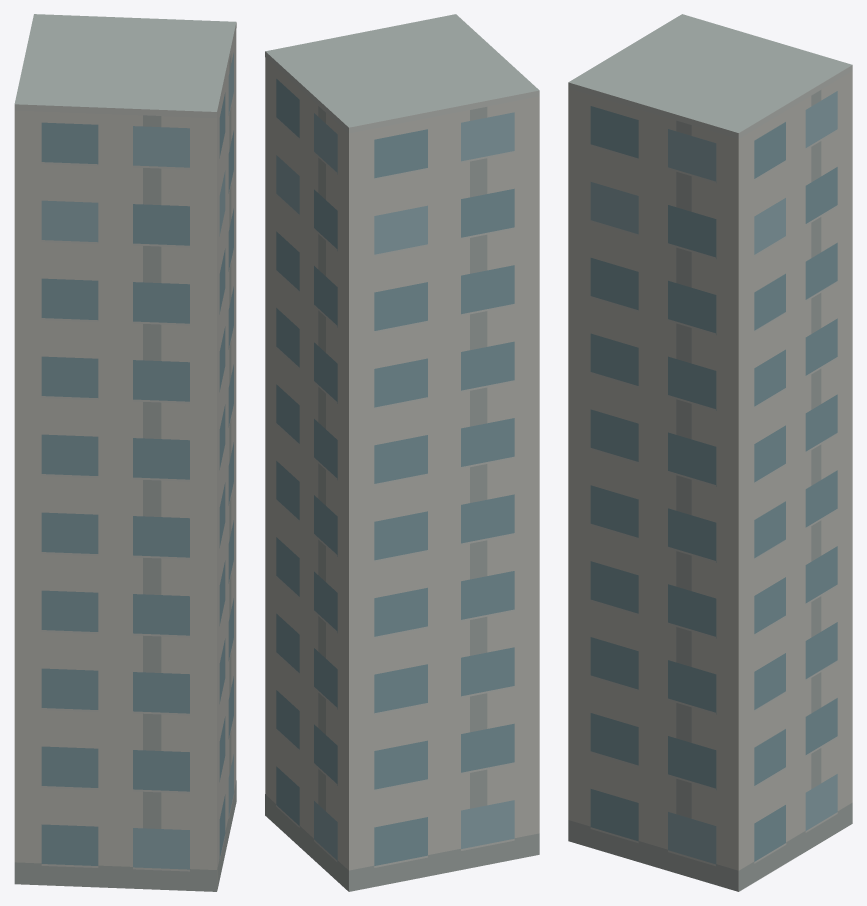
Rendered from residential-ee8491a0-ffdd-41f8-b7f5-f7b7a0984ddb.glb.
3 renders of one model, left to right at view 1: azimuth 30°, elevation 25°; view 2: azimuth 150°, elevation 25°; view 3: azimuth 270°, elevation 25°, orthographic. The views are drawn at different scales.
Parts seen in each view (by area): view 1: residential-ee8491a0-ffdd-41f8-b7f5-f7b7a0984ddb.tmp; view 2: residential-ee8491a0-ffdd-41f8-b7f5-f7b7a0984ddb.tmp; view 3: residential-ee8491a0-ffdd-41f8-b7f5-f7b7a0984ddb.tmp.
Boxes of the visible parts, x1,y1,x2,y2 form: residential-ee8491a0-ffdd-41f8-b7f5-f7b7a0984ddb.tmp: (14, 14, 236, 891); residential-ee8491a0-ffdd-41f8-b7f5-f7b7a0984ddb.tmp: (265, 14, 539, 891); residential-ee8491a0-ffdd-41f8-b7f5-f7b7a0984ddb.tmp: (568, 14, 852, 891).
Bounding box in the file's own units: 10.45 × 31 × 10.54.
